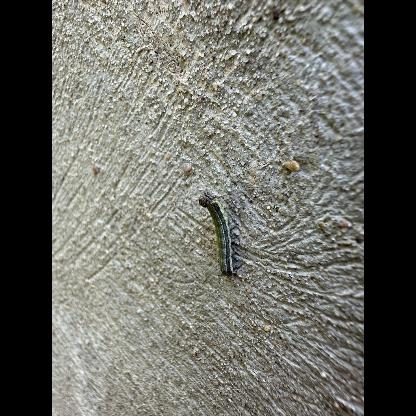Fall Armyworm Larvae: (195, 188, 240, 278)
